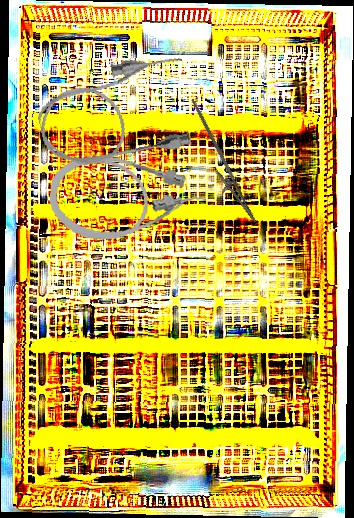Cannula: (29, 48, 202, 178), (44, 148, 211, 255)
Needle Holder: (168, 98, 271, 229)
